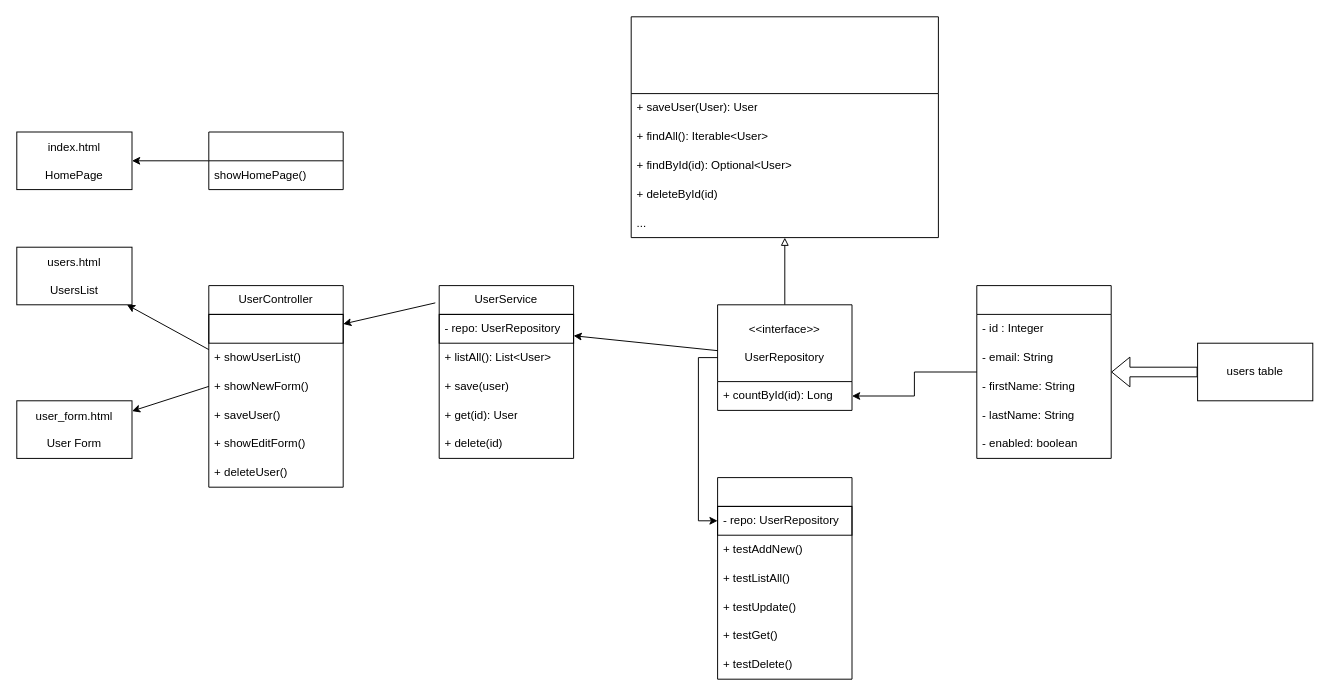
This 1330x696 diagram has some shape labels left out. Here are the shapes that lost their labels. From the top down, the box of each, then its label:
(630, 16, 938, 238): <<interface>> CrudRepository<User, Integer>
(208, 131, 343, 190): MainController
(208, 313, 343, 343): - service: UserService
(976, 285, 1111, 458): User
(717, 477, 852, 679): UserRepositoryTest
